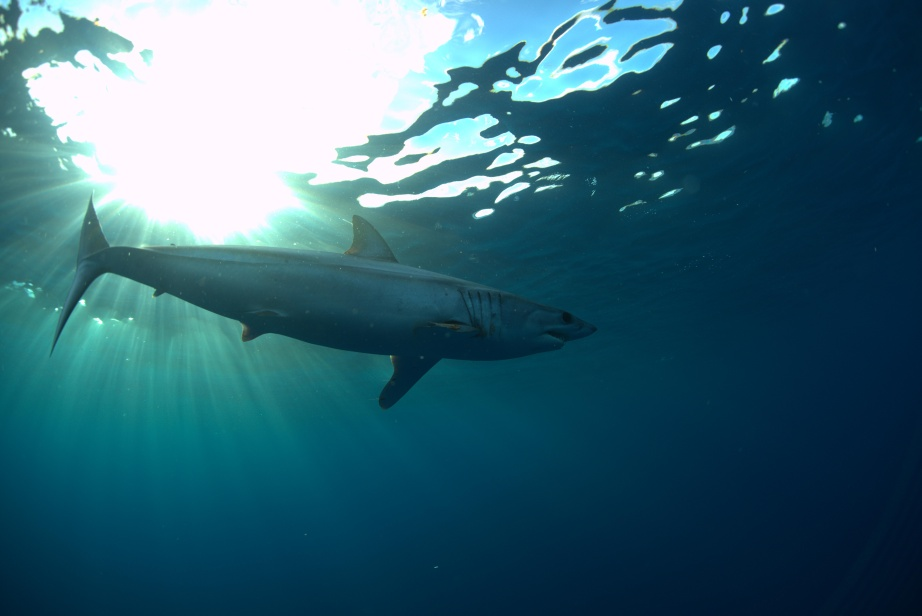Mako: (32, 169, 611, 425)
